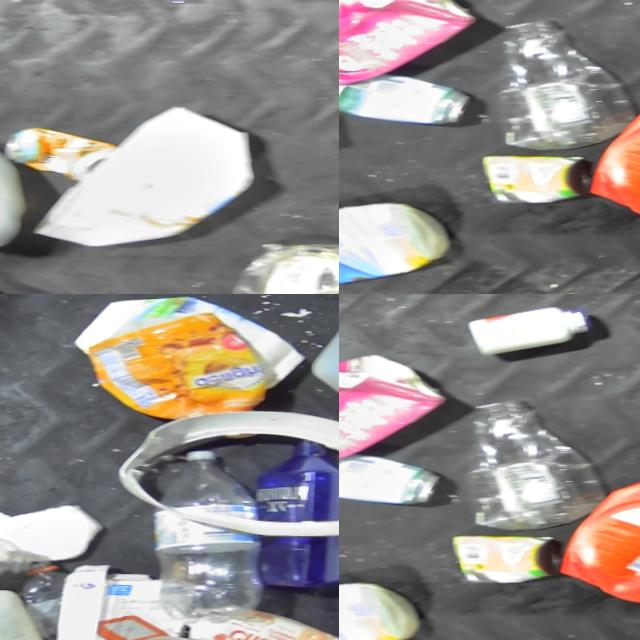can: (11, 121, 139, 184), (339, 72, 487, 124), (489, 151, 616, 209), (459, 531, 586, 589), (339, 452, 457, 504)
milk_jug: (32, 110, 261, 235), (0, 106, 50, 255)
non_white_jug: (555, 466, 640, 610), (585, 86, 640, 230)
plastic_bottle: (142, 441, 284, 618)
